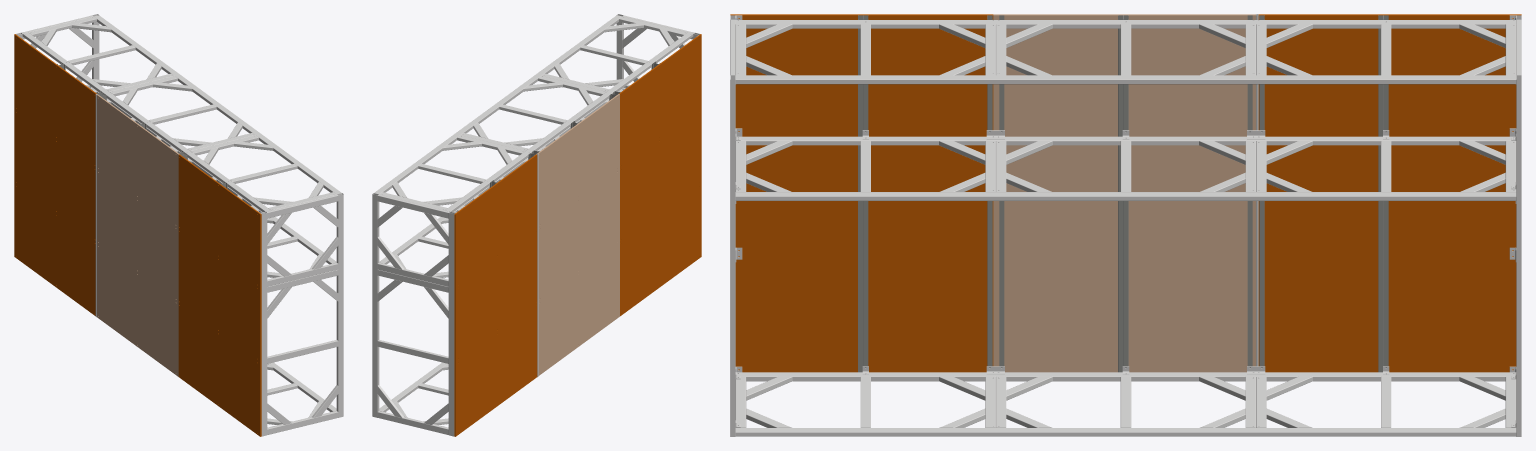
Rendered from ESCENARIO_6x3.glb.
3 renders of one model, left to right at view 1: azimuth 30°, elevation 25°; view 2: azimuth 150°, elevation 25°; view 3: azimuth 270°, elevation 25°, orthographic. The views are drawn at different scales.
Visible parts, largest first — view 1: Solid1:171, Solid1:165, Solid1:168, Solid1:169, Solid1:170, Solid1:167, Solid1:164, Solid1:166, Solid1:163, Solid1:114, Solid1:112, Solid1:31 (+22 smaller); view 2: Solid1:169, Solid1:163, Solid1:166, Solid1:171, Solid1:170, Solid1:167, Solid1:165, Solid1:168, Solid1:164, Solid1:2, Solid1, Solid1:85 (+22 smaller); view 3: Solid1:163, Solid1:164, Solid1:165, Solid1:169, Solid1:170, Solid1:171, Solid1:166, Solid1:167, Solid1:168, Solid1:35, Solid1:89, Solid1:62 (+29 smaller).
Boxes of the visible parts, bbox=[...] form: Solid1:171: bbox=[178, 154, 261, 288]; Solid1:165: bbox=[178, 303, 261, 436]; Solid1:168: bbox=[178, 229, 261, 362]; Solid1:169: bbox=[14, 34, 96, 167]; Solid1:170: bbox=[97, 94, 179, 228]; Solid1:167: bbox=[97, 169, 178, 302]; Solid1:164: bbox=[97, 243, 178, 376]; Solid1:166: bbox=[14, 109, 95, 241]; Solid1:163: bbox=[14, 183, 95, 315]; Solid1:114: bbox=[336, 268, 343, 417]; Solid1:112: bbox=[261, 287, 267, 436]; Solid1:31: bbox=[22, 32, 108, 95]; Solid1:169: bbox=[454, 154, 537, 288]; Solid1:163: bbox=[454, 303, 537, 436]; Solid1:166: bbox=[454, 229, 537, 362]; Solid1:171: bbox=[619, 34, 701, 167]; Solid1:170: bbox=[537, 94, 619, 227]; Solid1:167: bbox=[538, 168, 619, 301]; Solid1:165: bbox=[620, 183, 701, 316]; Solid1:168: bbox=[620, 109, 701, 241]; Solid1:164: bbox=[538, 243, 619, 375]; Solid1:2: bbox=[372, 268, 379, 417]; Solid1: bbox=[448, 287, 454, 436]; Solid1:85: bbox=[607, 32, 693, 94]; Solid1:163: bbox=[1258, 253, 1516, 372]; Solid1:164: bbox=[993, 253, 1255, 372]; Solid1:165: bbox=[735, 253, 993, 372]; Solid1:169: bbox=[1258, 14, 1521, 134]; Solid1:170: bbox=[993, 14, 1255, 134]; Solid1:171: bbox=[730, 14, 993, 134]; Solid1:166: bbox=[1258, 134, 1516, 253]; Solid1:167: bbox=[993, 134, 1255, 253]; Solid1:168: bbox=[735, 134, 993, 253]; Solid1:35: bbox=[1256, 75, 1516, 84]; Solid1:89: bbox=[735, 75, 995, 84]; Solid1:62: bbox=[996, 75, 1255, 84].
Size of the model in its own units: 1.03 by 2.62 by 5.25.
